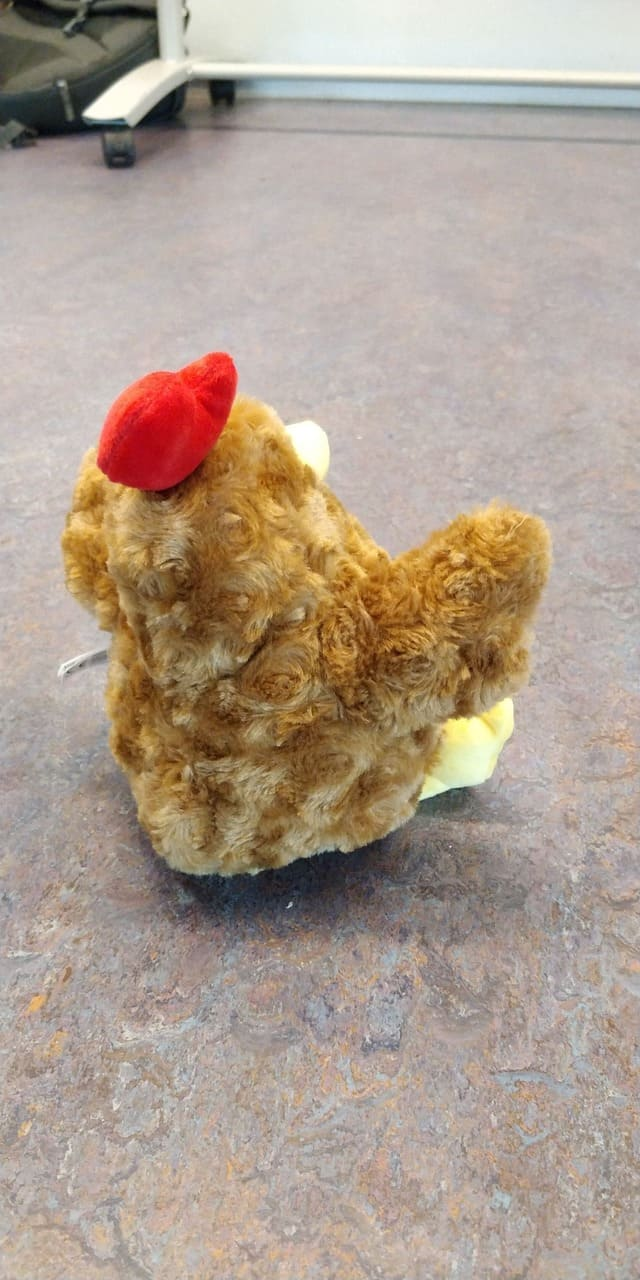fakeChicken: (58, 349, 551, 882)
